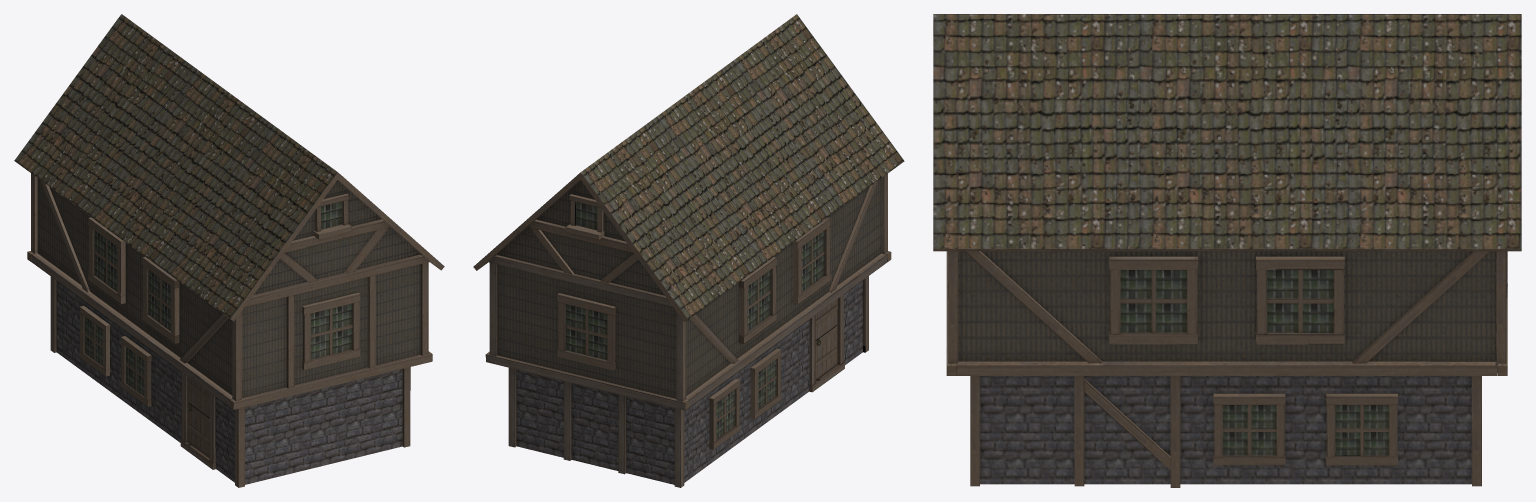
File: 02_medieval_house_low_poly.glb
The picture shows the model from 3 angles, left to right: view 1: azimuth 30°, elevation 25°; view 2: azimuth 150°, elevation 25°; view 3: azimuth 270°, elevation 25°; orthographic projection. The views are drawn at different scales.
Visible parts, largest first — view 1: Cube.001; view 2: Cube.001; view 3: Cube.001.
Part boxes in pixels (<box>): Cube.001: <box>14,14,444,487</box>; Cube.001: <box>473,14,904,487</box>; Cube.001: <box>933,14,1521,487</box>.
Bounding box in the file's own units: 4.98 × 6.79 × 8.69.
Materials: 1 (1 with a texture image).
